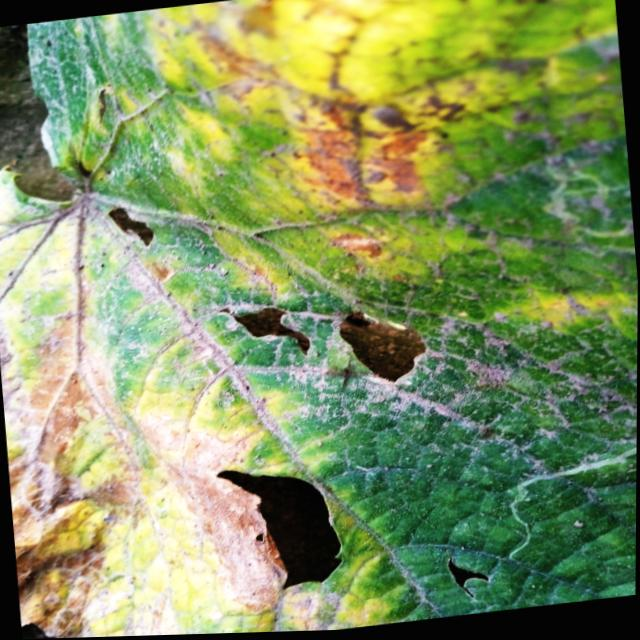Anthracnose: (215, 279, 434, 404), (204, 464, 345, 596), (105, 193, 157, 254), (443, 544, 494, 604)
